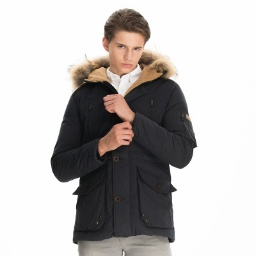face: (101, 8, 149, 74)
